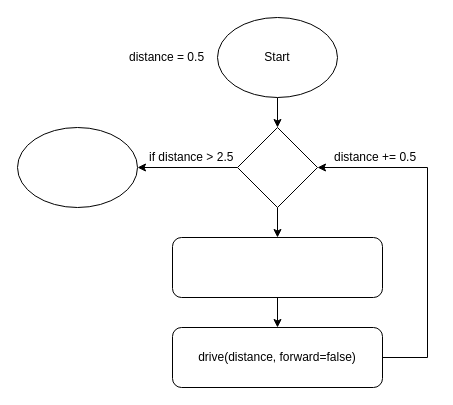
The diagram is 453 pixels wide and 405 high, and some of its shapes have lost their labels. The shapes that lost their labels are listed below. From the top down, each one's box as (x1, y1, x2, y2) in pixels, then its label:
(16, 126, 138, 208): Stop
(172, 236, 382, 298): drive(distance, forward=true)
